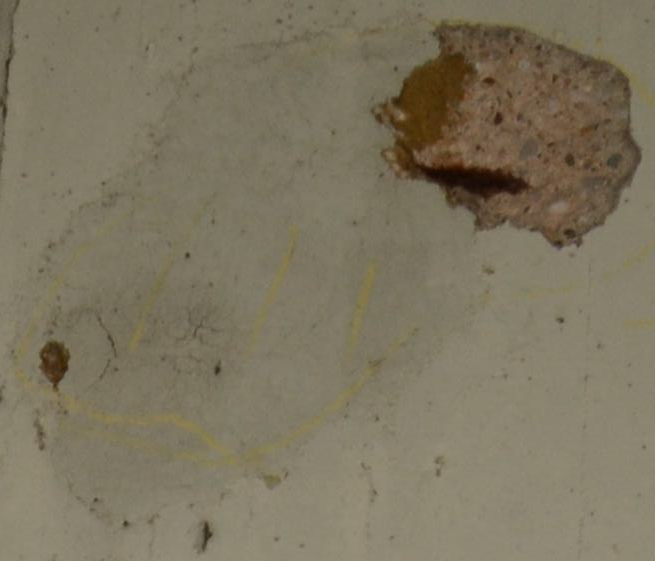Exposed reinforcement: (411, 163, 533, 197)
Spalling: (369, 16, 645, 253), (38, 340, 71, 393)
